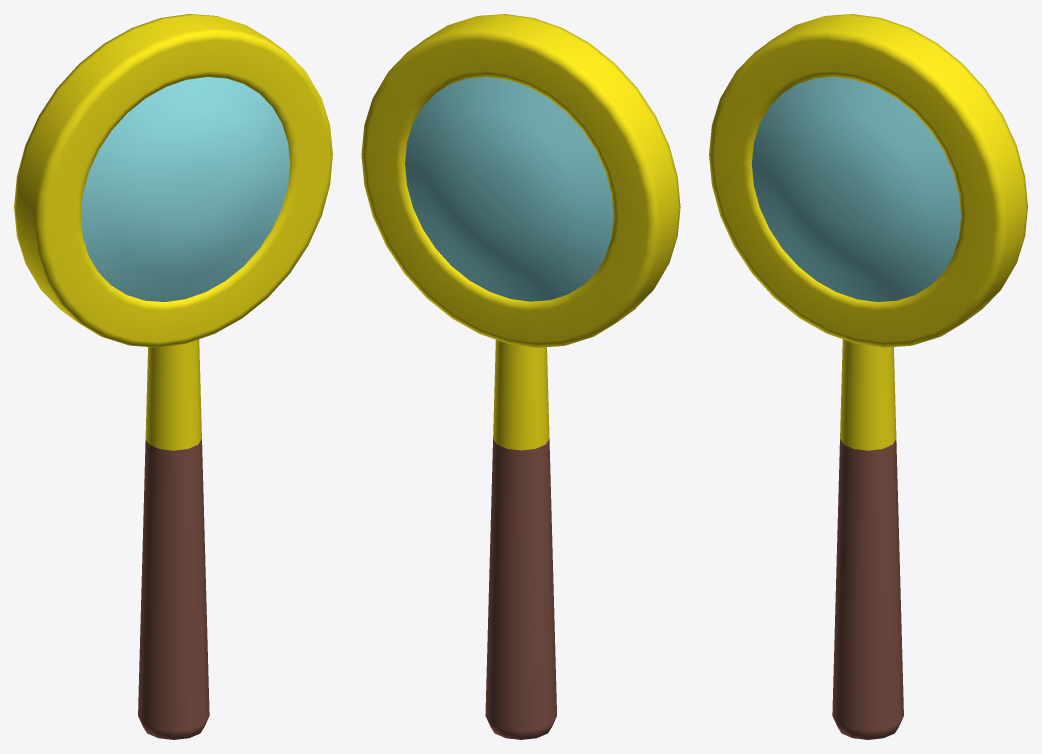
The model's file is Public_2_Reading_magnifier_1.glb.
3 views of the same model, side by side, from view 1: azimuth 30°, elevation 25°; view 2: azimuth 150°, elevation 25°; view 3: azimuth 330°, elevation 25° (orthographic).
Visible parts, largest first — view 1: Public_2_Reading_magnifier_1; view 2: Public_2_Reading_magnifier_1; view 3: Public_2_Reading_magnifier_1.
Part boxes in pixels (x1,y1,x2,y2): Public_2_Reading_magnifier_1: (14, 14, 332, 739); Public_2_Reading_magnifier_1: (361, 14, 680, 739); Public_2_Reading_magnifier_1: (709, 14, 1027, 739).
Bounding box in the file's own units: 0.6406 × 1.46 × 0.1814.
Materials: 1 (1 with a texture image).
